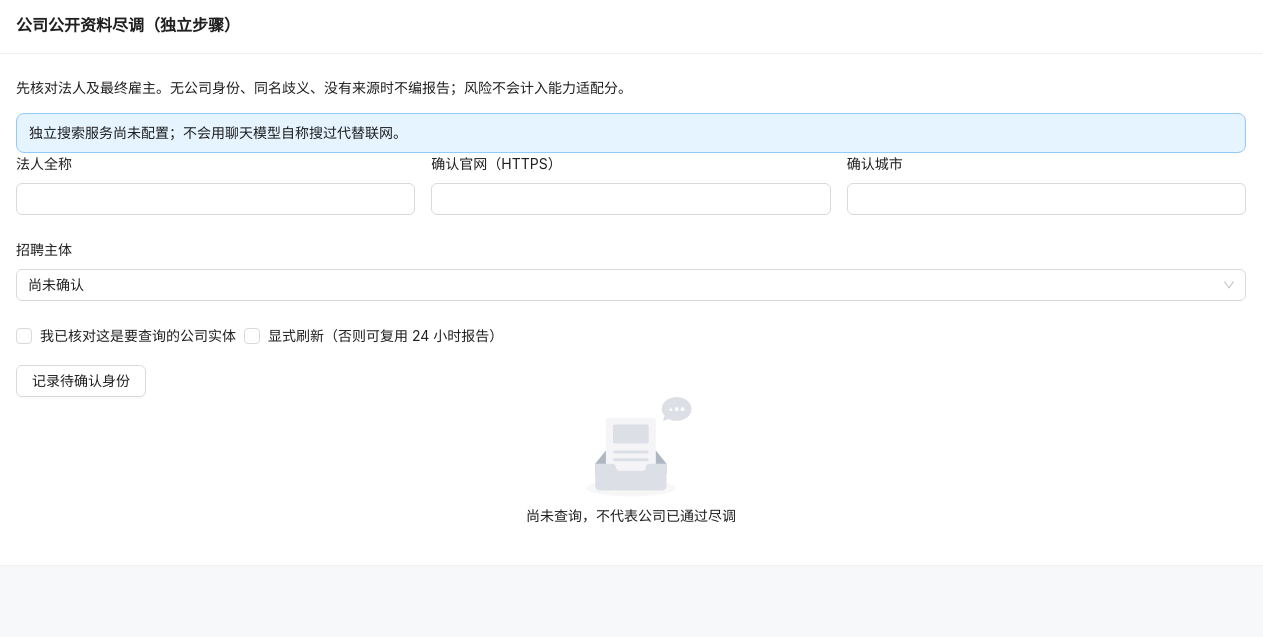
Test case: 查询失败保留用户核对输入并显示安全错误编号
Type "待确认公司" into the field below "法人全称" at (216,199), box x1=16 y1=183 x2=415 y2=215
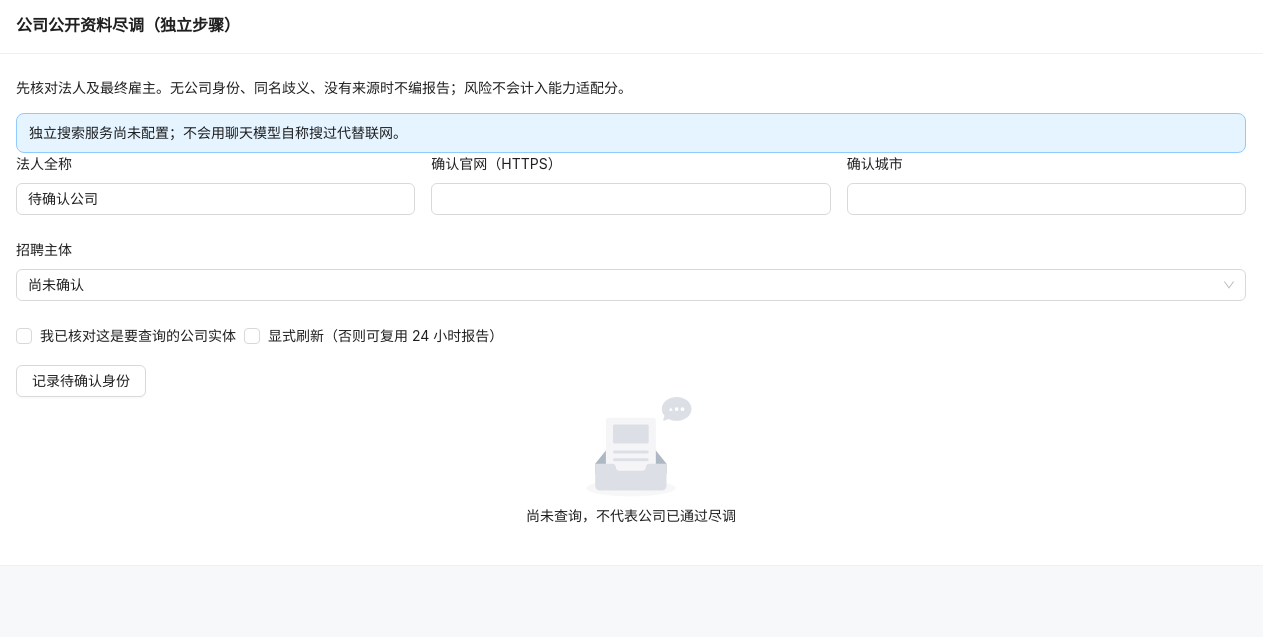
Click the button "记录待确认身份" at (81,381), box x1=16 y1=365 x2=146 y2=397
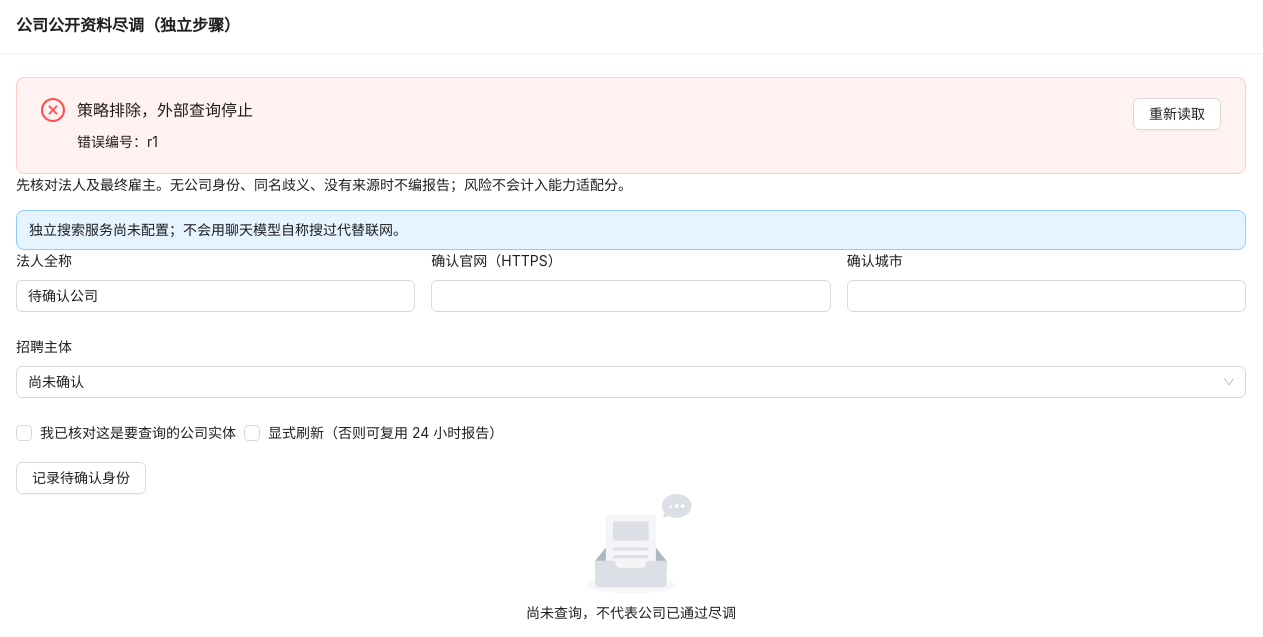
Result: the text "外部查询停止" is shown at x1=77 y1=100 x2=253 y2=120
Result: the text "r1" is shown at x1=77 y1=133 x2=158 y2=150
